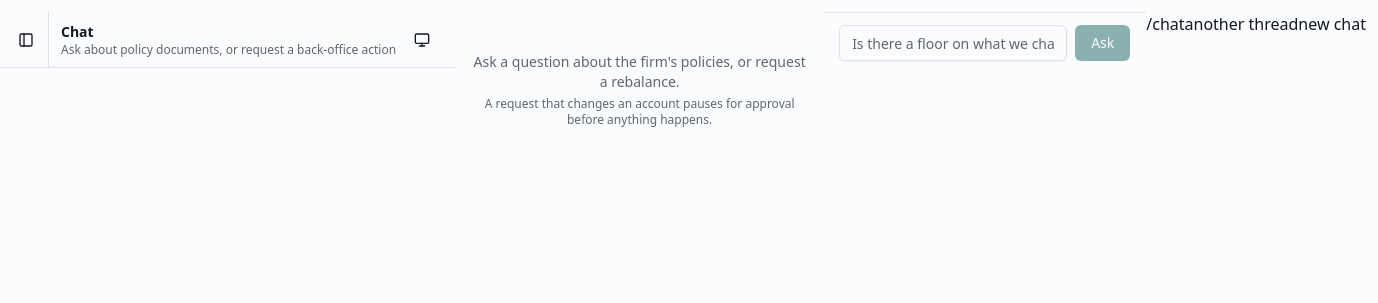
ChatPage › reports a rejection as nothing having run
Type "Rebalance AC-0042" into the field named "Message" at (953, 43), box [839,25,1067,61]
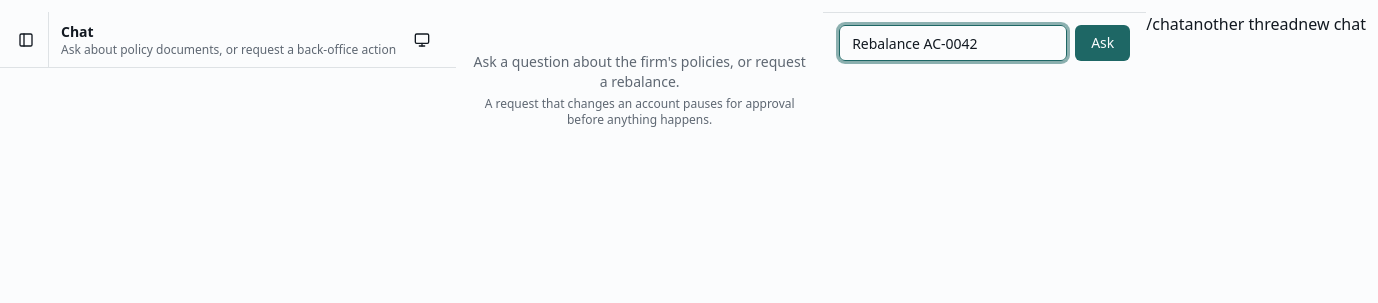
Click the button "Ask" at (1103, 43), box [1075,25,1130,61]
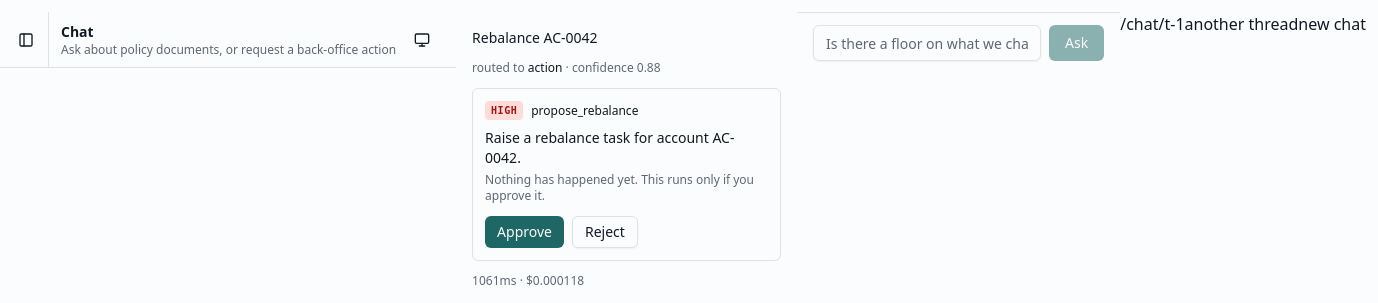
expect the element with test id "approval" is shown: met, box [472,88,781,261]
Click the button "Reject" at (605, 232), box [572,216,638,248]
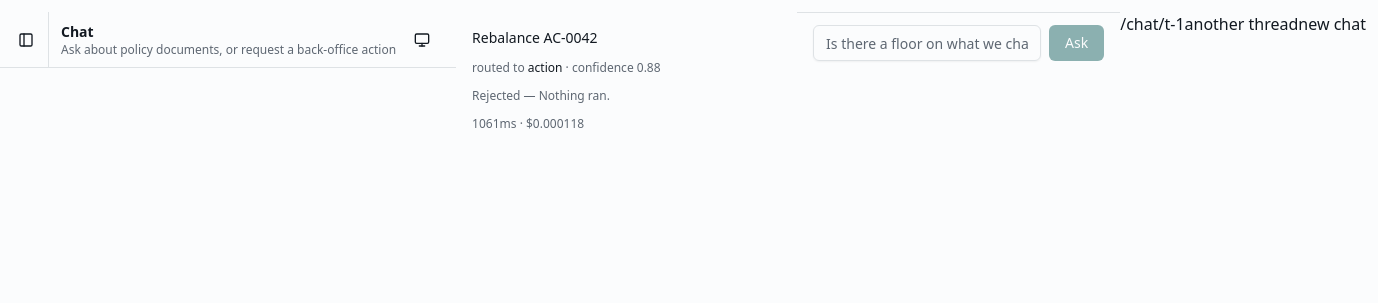
expect the element with test id "decision" shows "Nothing ran": met, box [539,87,610,104]
